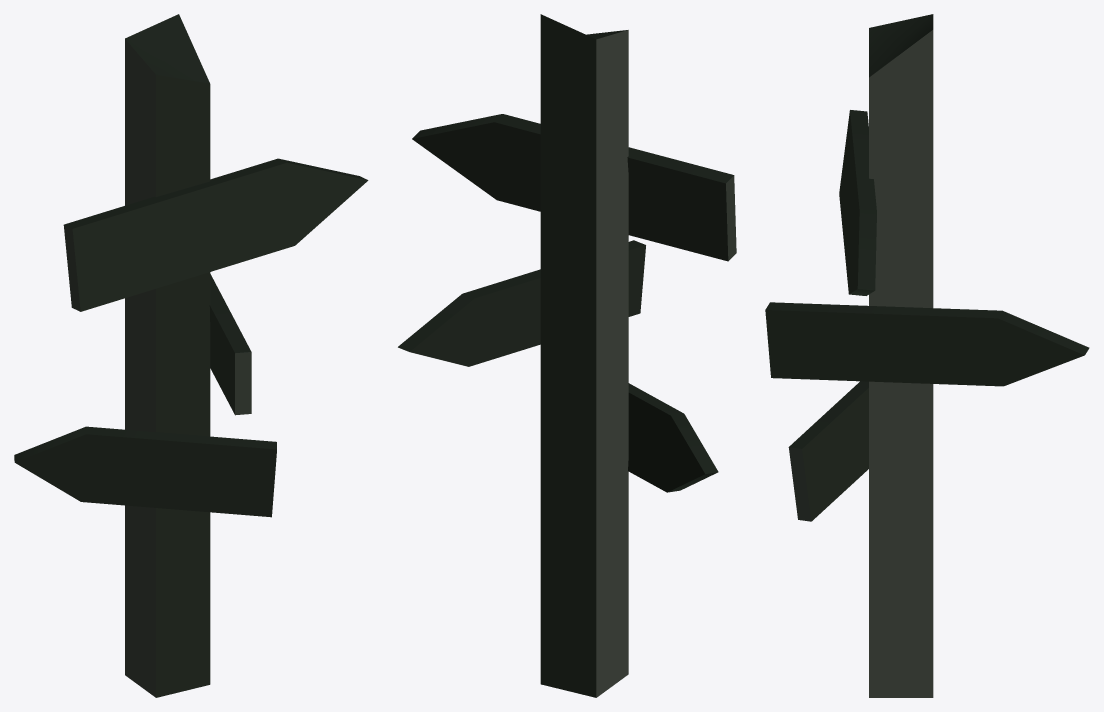
Rendered from SF_Prop_SignPost_01.glb.
The picture shows the model from 3 angles, left to right: view 1: azimuth 30°, elevation 25°; view 2: azimuth 150°, elevation 25°; view 3: azimuth 270°, elevation 25°; orthographic projection. The views are drawn at different scales.
Parts seen in each view (by area): view 1: SF_Prop_SignPost_01; view 2: SF_Prop_SignPost_01; view 3: SF_Prop_SignPost_01.
Part boxes in pixels (bbox=[...]): SF_Prop_SignPost_01: bbox=[14, 14, 368, 697]; SF_Prop_SignPost_01: bbox=[398, 14, 736, 697]; SF_Prop_SignPost_01: bbox=[765, 14, 1089, 697].
Size of the model in its own units: 0.016 by 0.0308 by 0.0136.
Materials: 1 (1 with a texture image).
